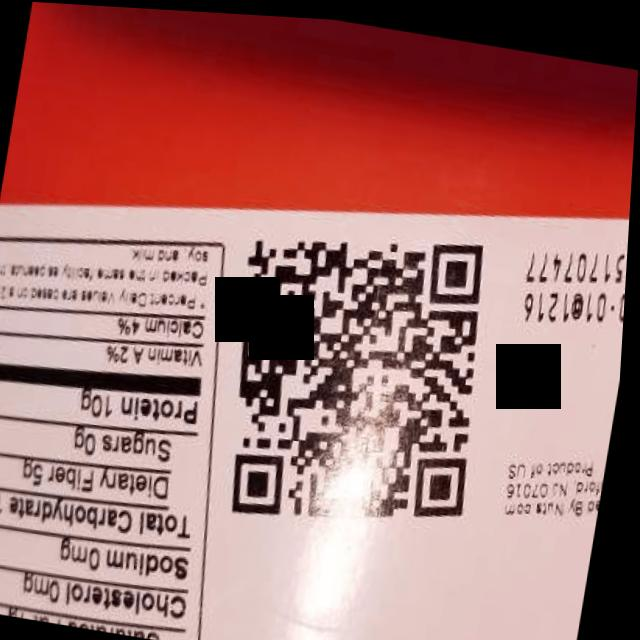QR_CODE: (197, 194, 528, 570)
